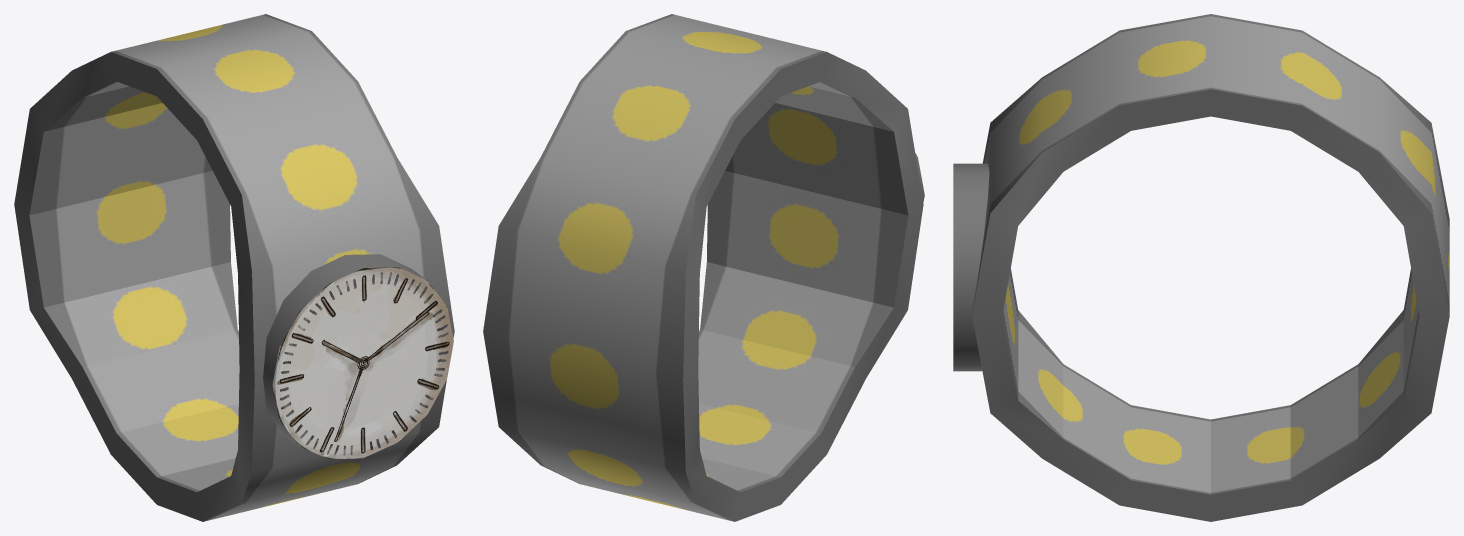
Rendered from watch.fbx.
The picture shows the model from 3 angles, left to right: view 1: azimuth 30°, elevation 25°; view 2: azimuth 150°, elevation 25°; view 3: azimuth 270°, elevation 25°; orthographic projection.
Parts seen in each view (by area): view 1: Cylinder003; view 2: Cylinder003; view 3: Cylinder003.
Part boxes in pixels (x1=…): Cylinder003: x1=14, y1=14, x2=454, y2=521; Cylinder003: x1=483, y1=14, x2=924, y2=521; Cylinder003: x1=953, y1=14, x2=1449, y2=521.
Size of the model in its own units: 17.38 by 36.2 by 37.63.
Materials: 1 (1 with a texture image).
